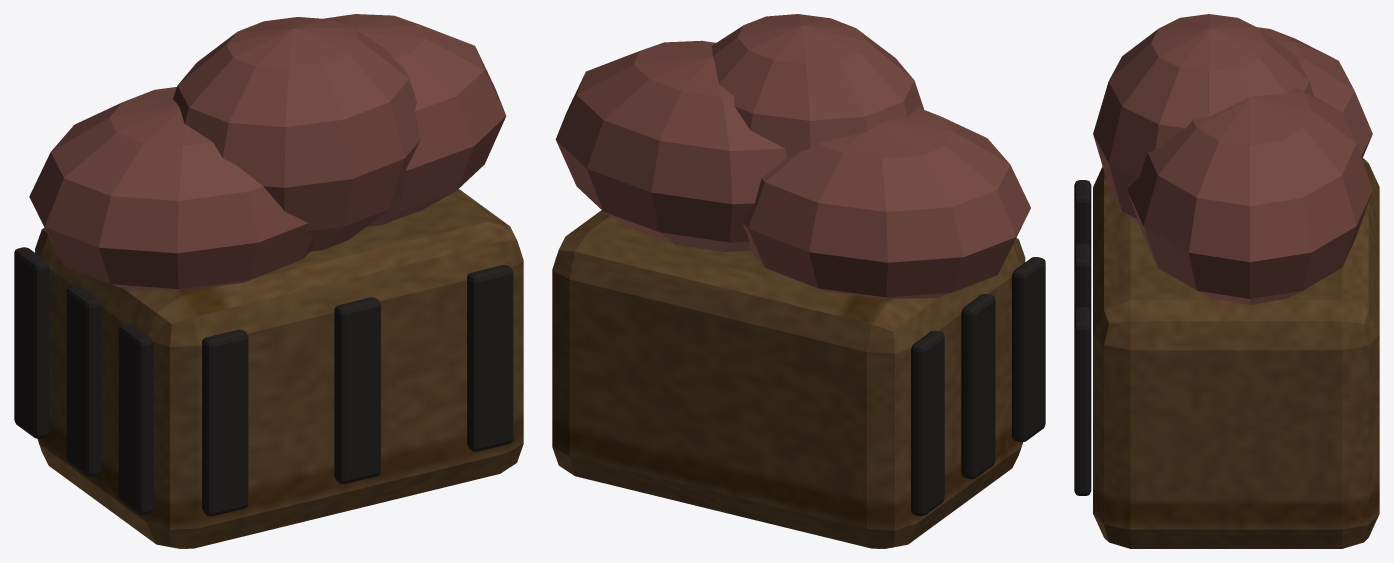
The model's file is basement-laundry-basket.glb.
3 views of the same model, side by side, from view 1: azimuth 30°, elevation 25°; view 2: azimuth 150°, elevation 25°; view 3: azimuth 270°, elevation 25° (orthographic). The views are drawn at different scales.
Parts seen in each view (by area): view 1: SM_lonely_basement_laundry_basket_Fabric_RugBurgundy, SM_Prop_LaundryBasketBase, SM_lonely_basement_laundry_basket_Rubber_SootBlack; view 2: SM_Prop_LaundryBasketBase, SM_lonely_basement_laundry_basket_Fabric_RugBurgundy, SM_lonely_basement_laundry_basket_Rubber_SootBlack; view 3: SM_Prop_LaundryBasketBase, SM_lonely_basement_laundry_basket_Fabric_RugBurgundy, SM_lonely_basement_laundry_basket_Rubber_SootBlack.
Part boxes in pixels (box(x1,y1,x2,y2)): SM_lonely_basement_laundry_basket_Fabric_RugBurgundy: box(29, 14, 506, 290); SM_Prop_LaundryBasketBase: box(35, 189, 523, 548); SM_lonely_basement_laundry_basket_Rubber_SootBlack: box(14, 247, 513, 516); SM_Prop_LaundryBasketBase: box(552, 210, 1025, 548); SM_lonely_basement_laundry_basket_Fabric_RugBurgundy: box(555, 14, 1030, 299); SM_lonely_basement_laundry_basket_Rubber_SootBlack: box(911, 257, 1045, 516); SM_Prop_LaundryBasketBase: box(1093, 158, 1379, 548); SM_lonely_basement_laundry_basket_Fabric_RugBurgundy: box(1093, 14, 1372, 304); SM_lonely_basement_laundry_basket_Rubber_SootBlack: box(1074, 180, 1091, 495).
Bounding box in the file's own units: 0.76 × 0.72 × 0.4475.
Materials: 3 (1 with a texture image).
